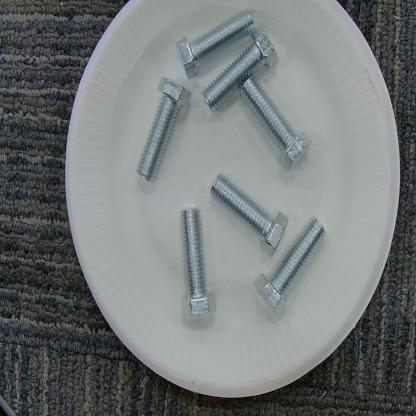FOD: (125, 3, 331, 171), (177, 174, 332, 326)
